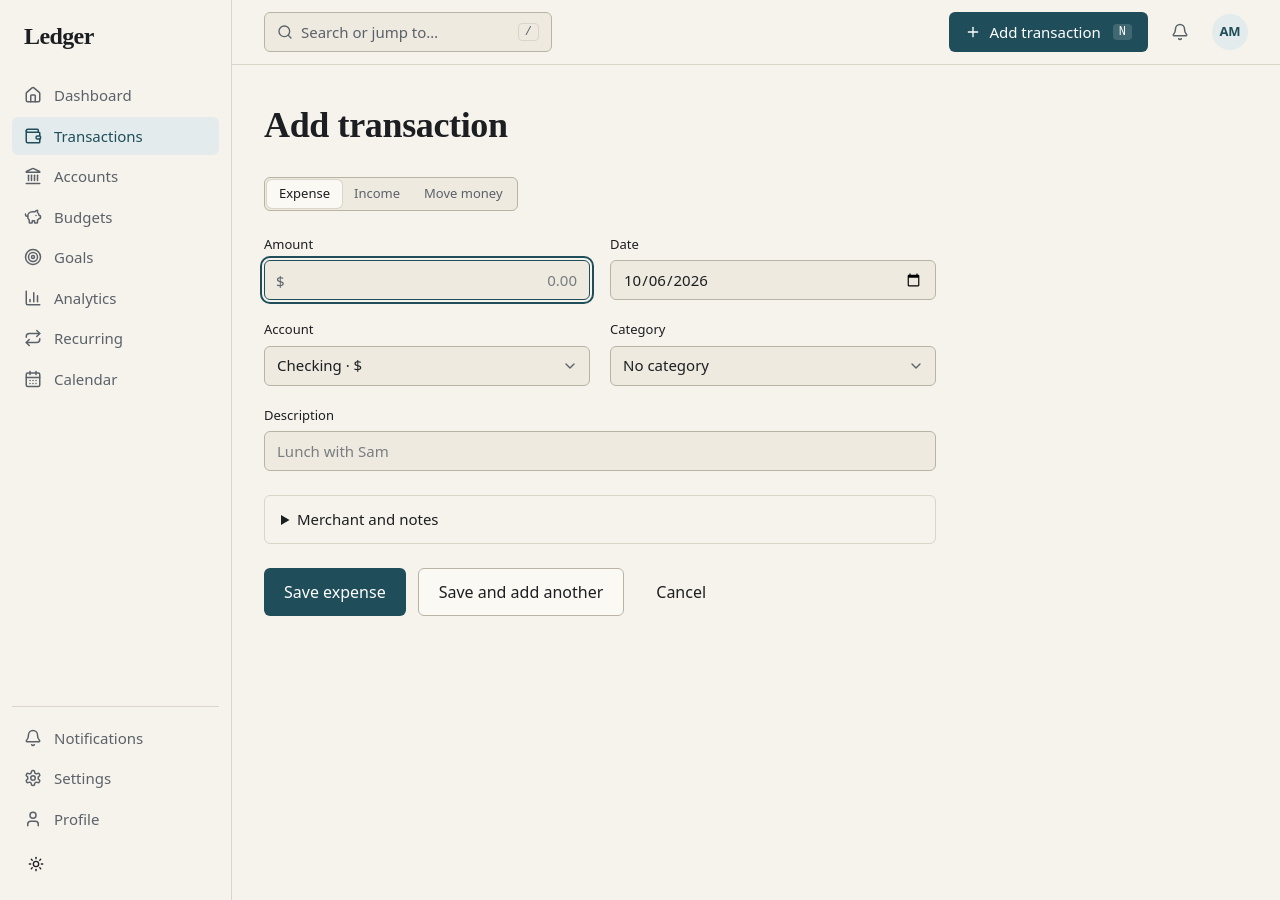
Test: add transaction › asks for an amount in plain language instead of posting
Type "Nothing" into the field labelled "Description" at point(600, 451), box [264, 431, 936, 471]
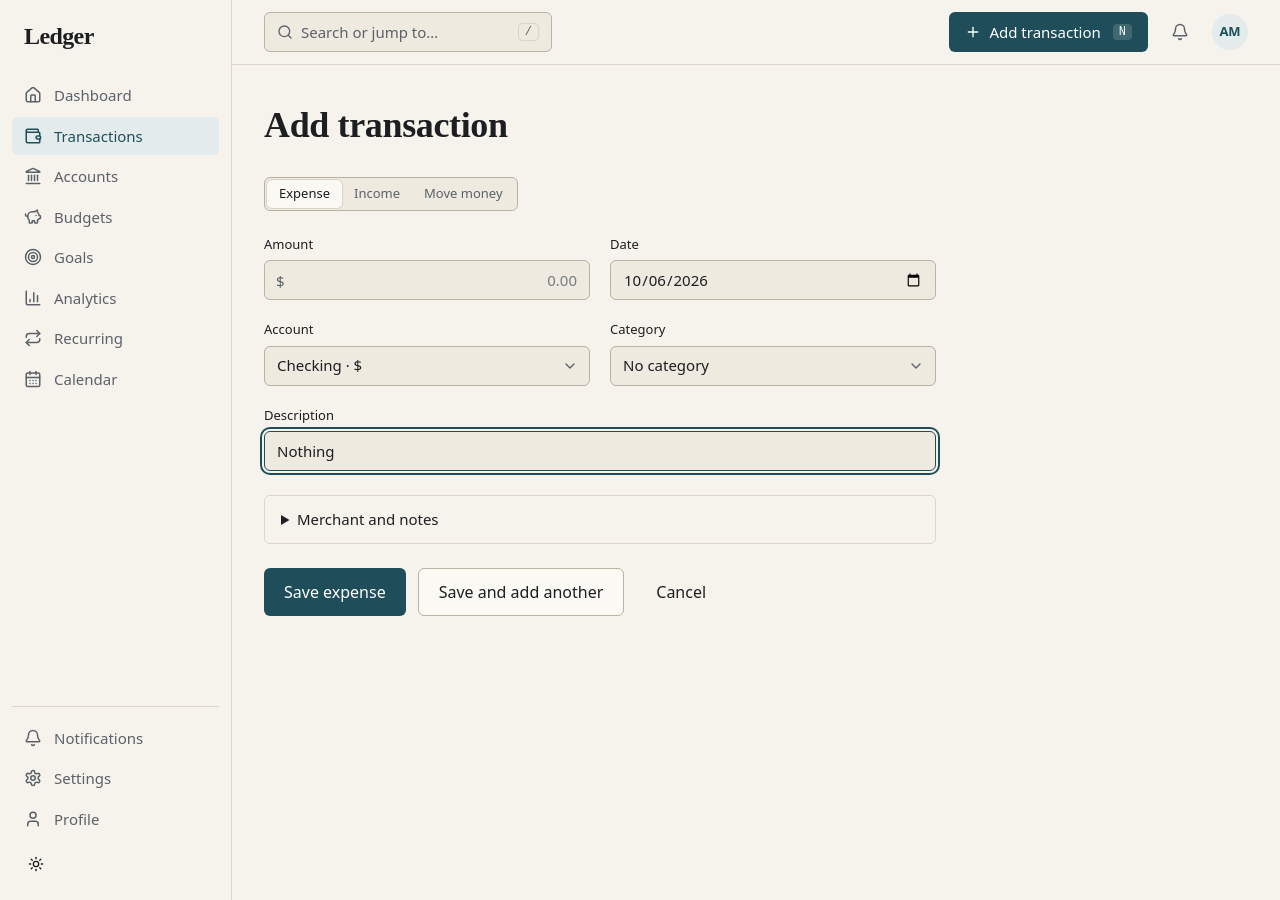
Click the button "Save expense" at point(335, 592), box [264, 568, 406, 616]
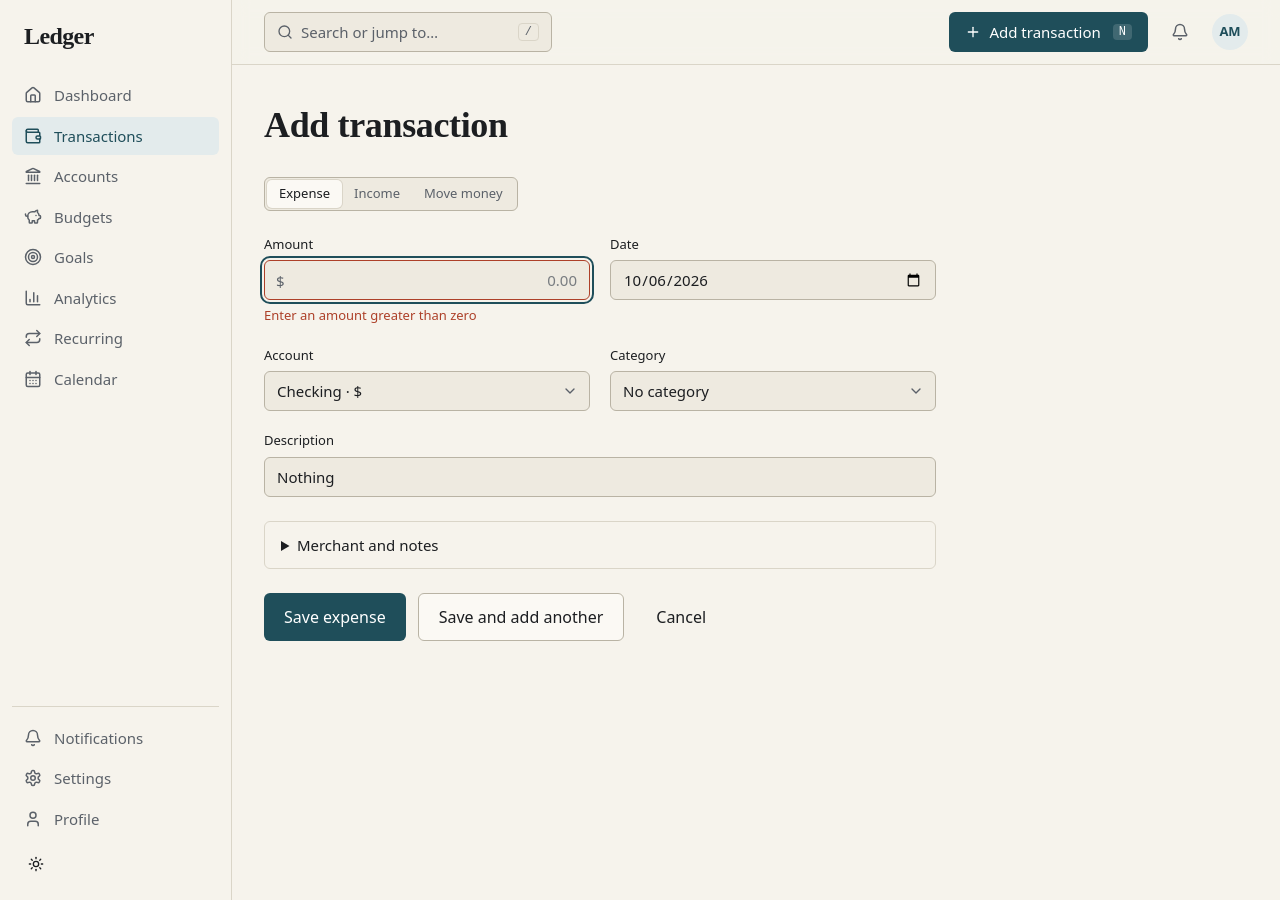
Now the text "Enter an amount greater than zero" is shown, box [264, 306, 477, 324]
